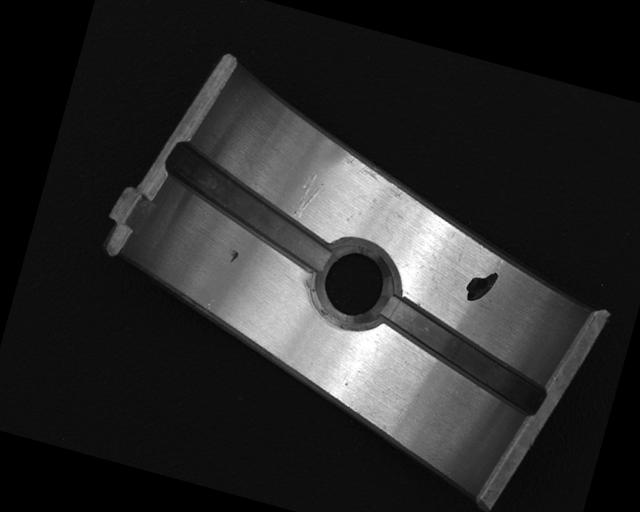blot: (462, 266, 500, 307)
bruise: (227, 249, 241, 264)
gap: (152, 140, 347, 275), (368, 298, 558, 418)
hole: (306, 235, 398, 337)
nick: (293, 168, 327, 222)
